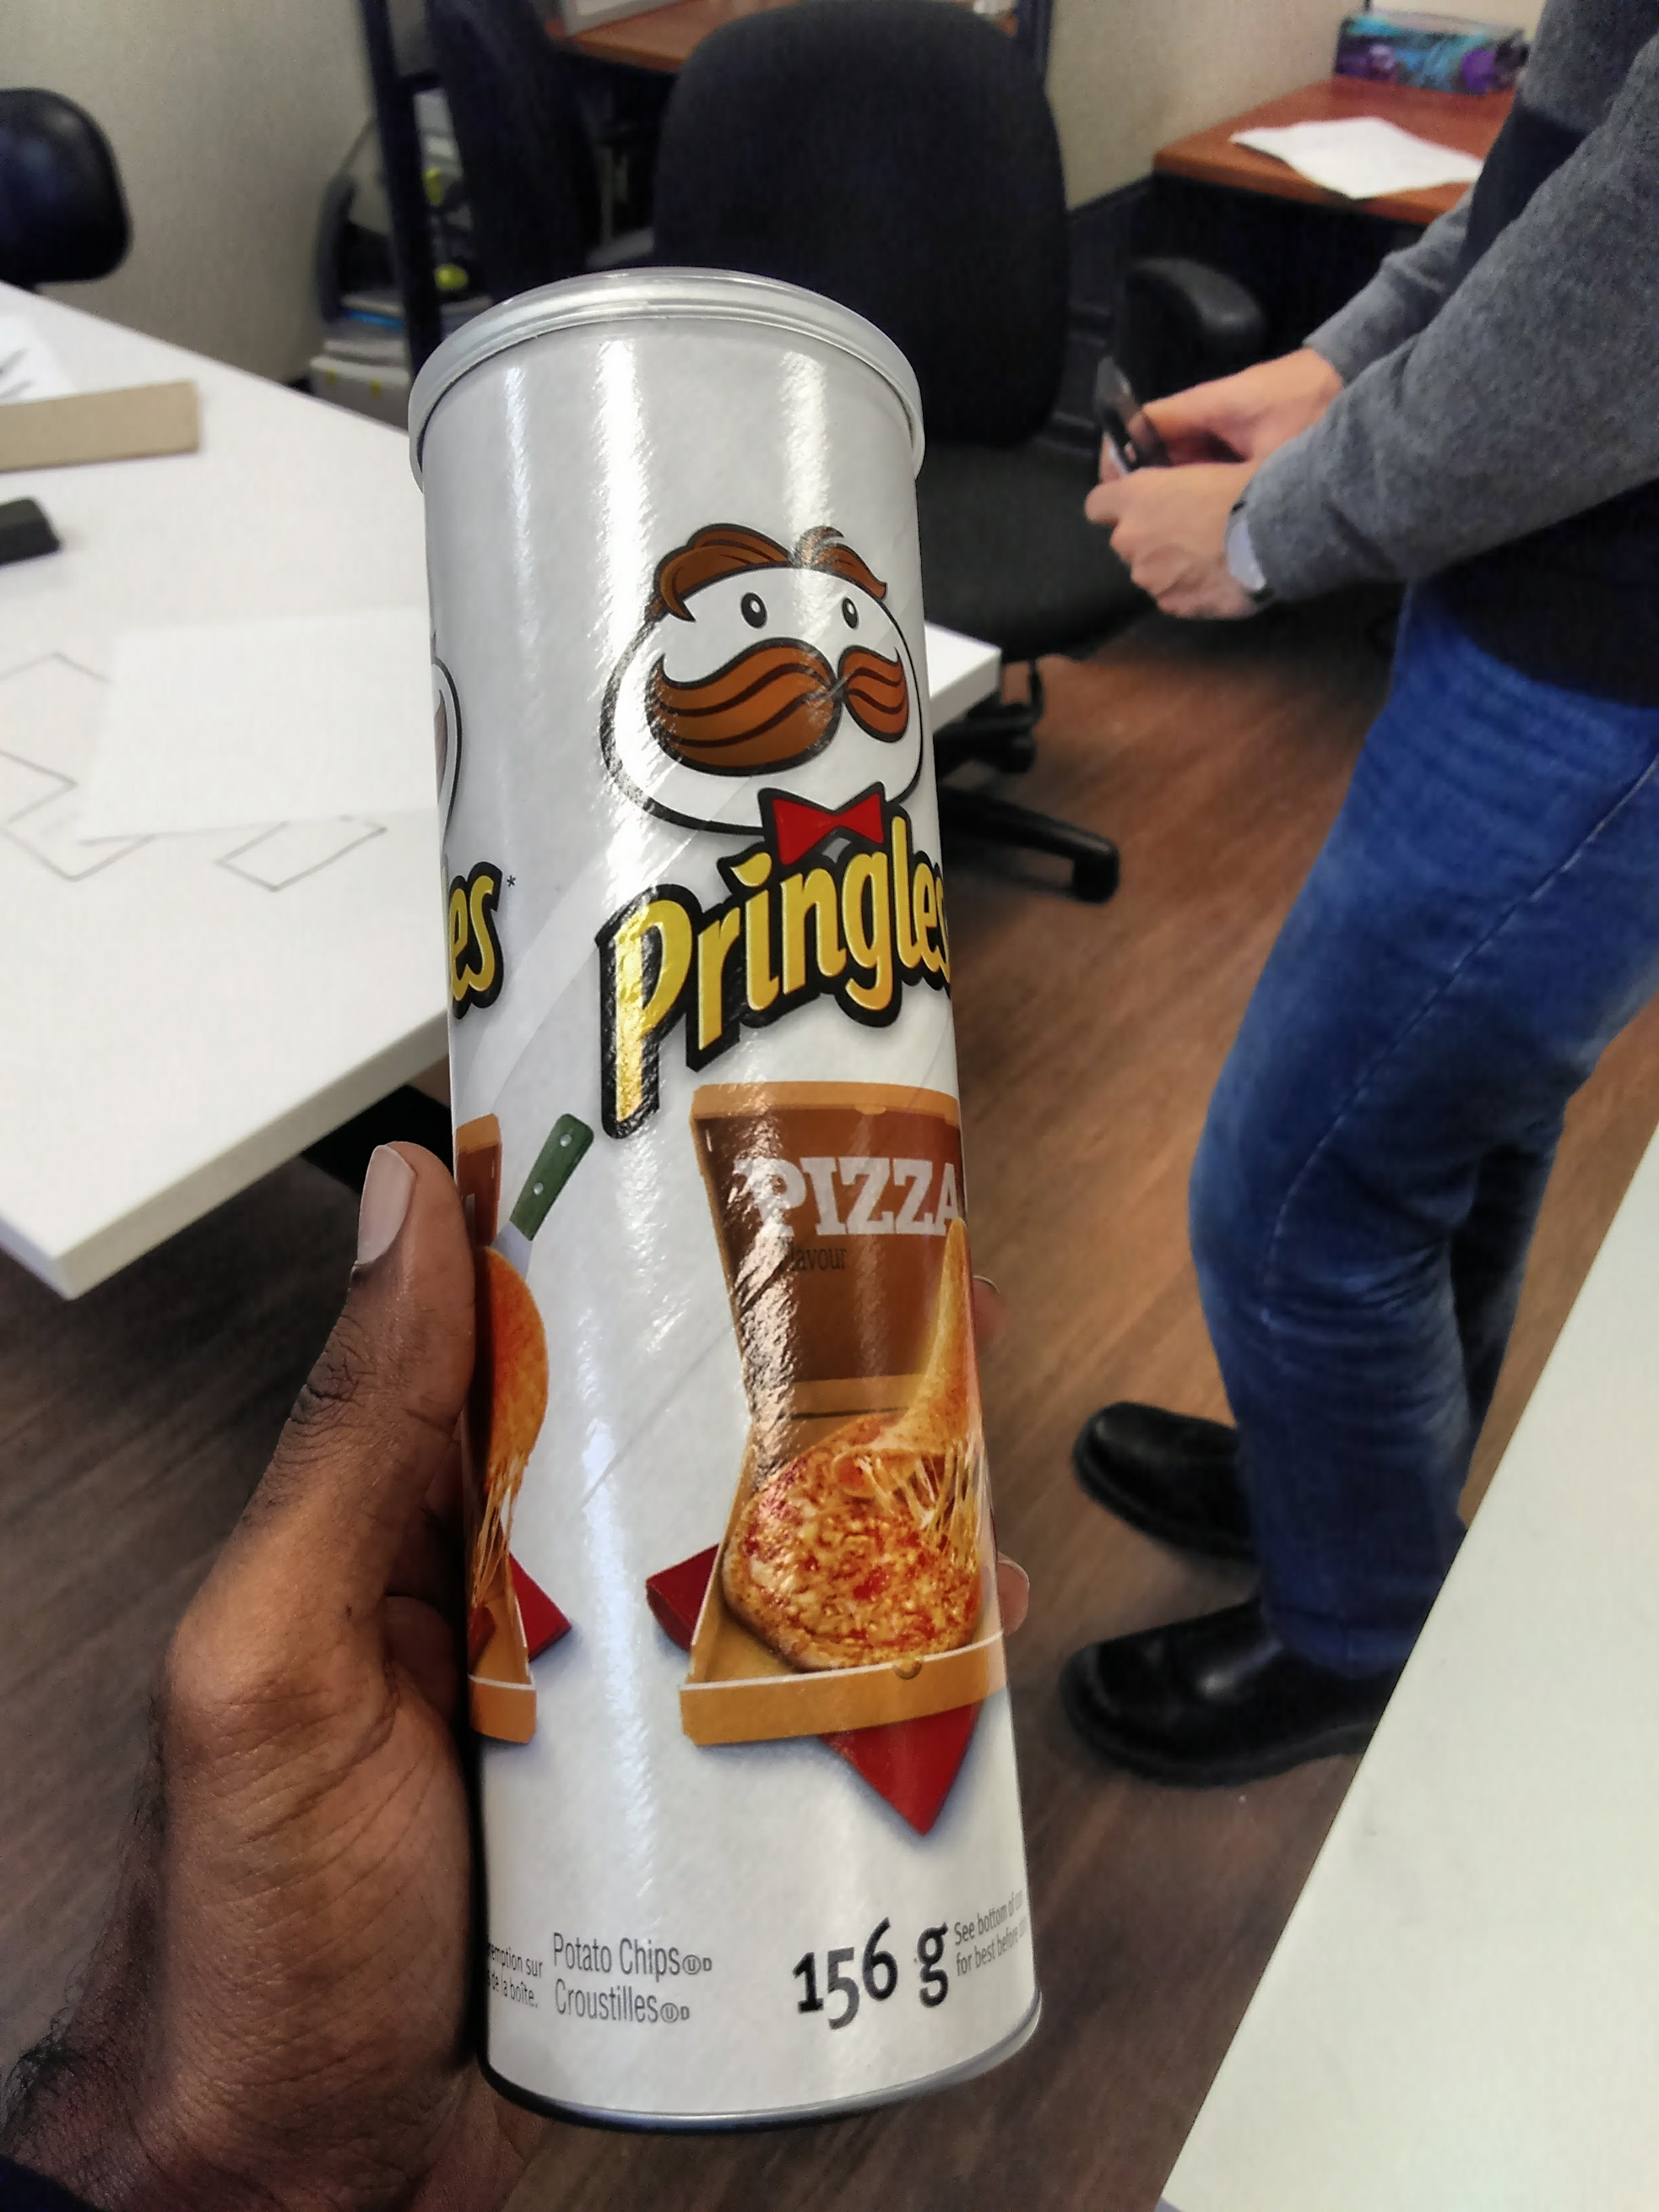pringles: (322, 221, 1079, 2156)
